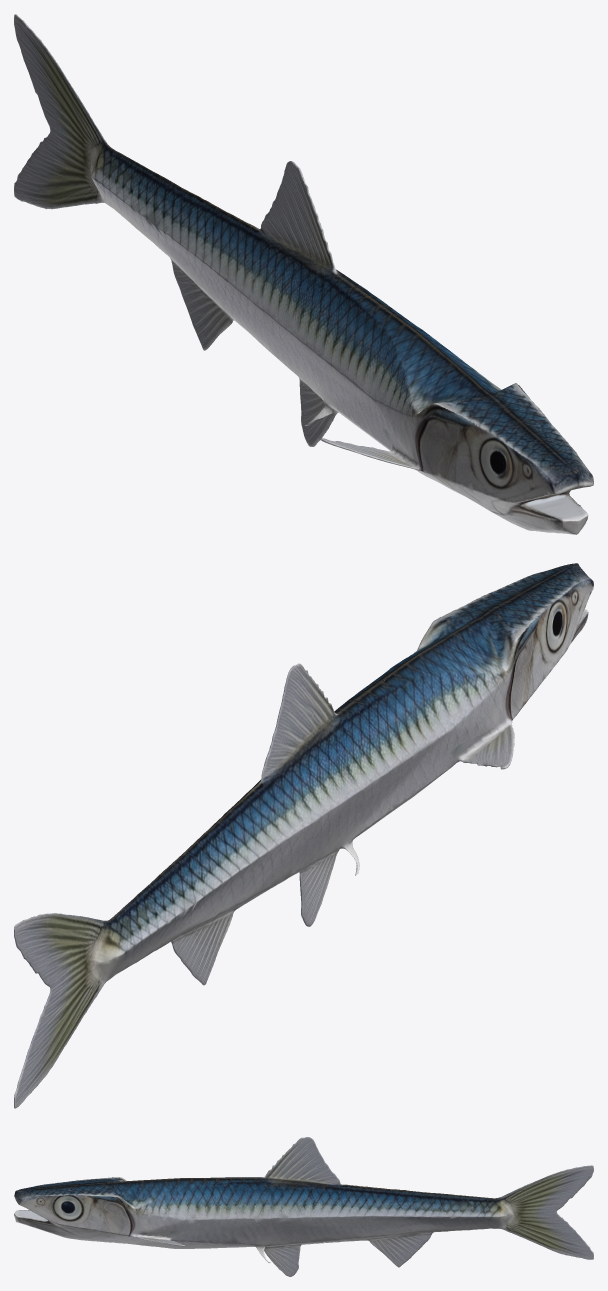
Rendered from katakuchiiwashi-846b942041c2.glb.
3 views of the same model, one above another, from view 1: azimuth 30°, elevation 25°; view 2: azimuth 150°, elevation 25°; view 3: azimuth 270°, elevation 25° (orthographic). The views are drawn at different scales.
Size of the model in its own units: 0.3614 by 0.5046 by 1.9.
Materials: 1 (1 with a texture image).
